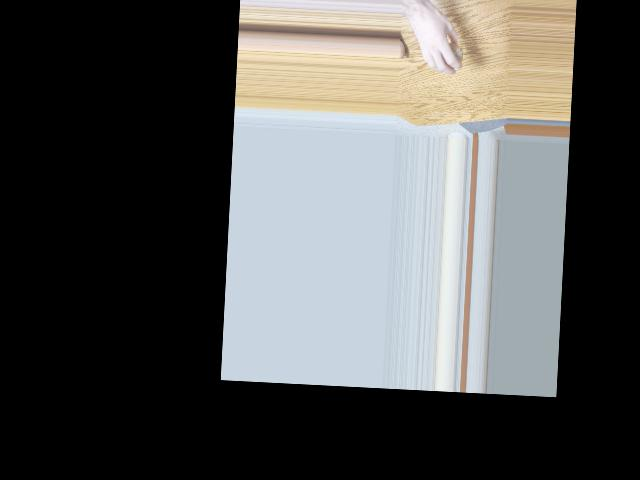onion: (437, 39, 464, 71)
